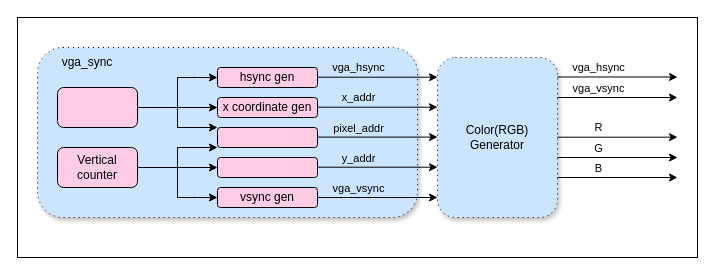
Some shapes in this 715 by 275 pixel diagram are drawn without their labels. The centre of each missing label's shape, as x and y in pixels:
Horizontal counter: the point at 97,107
pixel address gen: the point at 267,137
y coordinate gen: the point at 267,167
